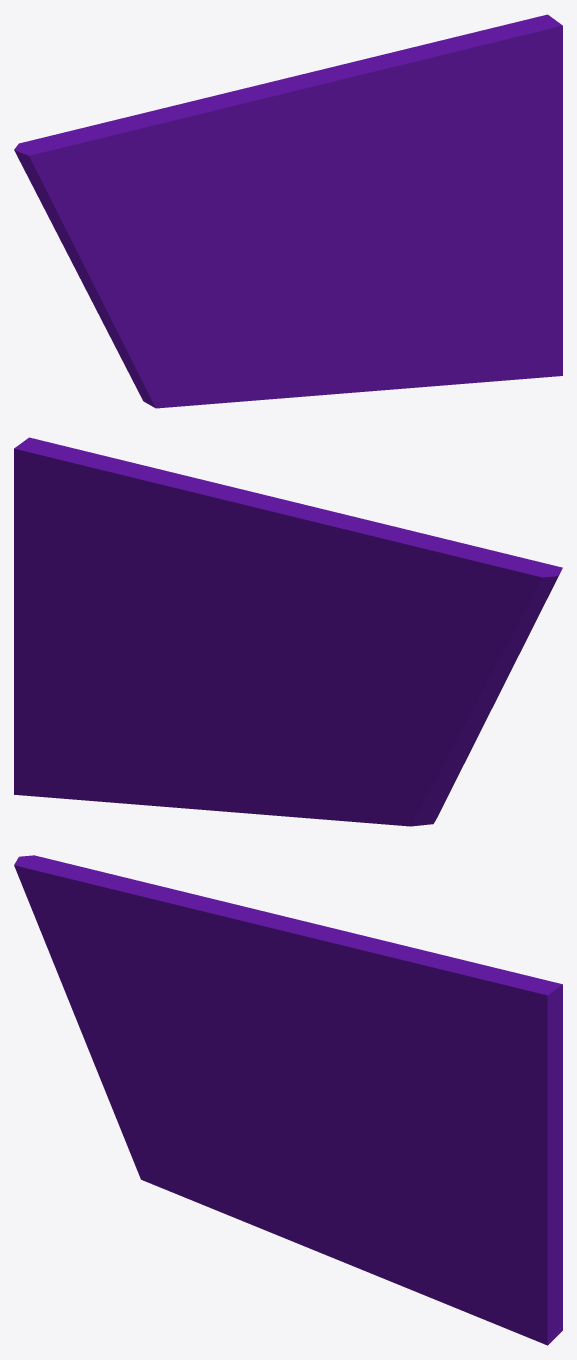
Rendered from ElevatorWall_3_2_chunks.fbx.
3 views of the same model, one above another, from view 1: azimuth 30°, elevation 25°; view 2: azimuth 150°, elevation 25°; view 3: azimuth 330°, elevation 25° (orthographic).
Visible parts, largest first — view 1: ElevatorWall_3_2_6, ElevatorWall_3_2_5, ElevatorWall_3_2_4, ElevatorWall_3_2_10, ElevatorWall_3_2_11, ElevatorWall_3_2_1, ElevatorWall_3_2_2, ElevatorWall_3_2_8, ElevatorWall_3_2_9, ElevatorWall_3_2_3, ElevatorWall_3_2_15, ElevatorWall_3_2_7; view 2: ElevatorWall_3_2_5, ElevatorWall_3_2_6, ElevatorWall_3_2_11, ElevatorWall_3_2_1, ElevatorWall_3_2_10, ElevatorWall_3_2_15, ElevatorWall_3_2_7, ElevatorWall_3_2_9, ElevatorWall_3_2_0, ElevatorWall_3_2_13, ElevatorWall_3_2_3, ElevatorWall_3_2_12 (+4 smaller); view 3: ElevatorWall_3_2_5, ElevatorWall_3_2_6, ElevatorWall_3_2_4, ElevatorWall_3_2_10, ElevatorWall_3_2_11, ElevatorWall_3_2_1, ElevatorWall_3_2_8, ElevatorWall_3_2_2, ElevatorWall_3_2_9, ElevatorWall_3_2_3, ElevatorWall_3_2_15, ElevatorWall_3_2_7.
Boxes of the visible parts, x1=… form: ElevatorWall_3_2_6: x1=344, y1=14, x2=562, y2=216; ElevatorWall_3_2_5: x1=371, y1=176, x2=562, y2=390; ElevatorWall_3_2_4: x1=275, y1=154, x2=434, y2=376; ElevatorWall_3_2_10: x1=144, y1=76, x2=338, y2=211; ElevatorWall_3_2_11: x1=14, y1=112, x2=169, y2=272; ElevatorWall_3_2_1: x1=226, y1=279, x2=381, y2=402; ElevatorWall_3_2_2: x1=99, y1=302, x2=232, y2=408; ElevatorWall_3_2_8: x1=77, y1=195, x2=199, y2=323; ElevatorWall_3_2_9: x1=188, y1=182, x2=307, y2=292; ElevatorWall_3_2_3: x1=166, y1=256, x2=293, y2=326; ElevatorWall_3_2_15: x1=295, y1=27, x2=493, y2=133; ElevatorWall_3_2_7: x1=320, y1=126, x2=364, y2=154; ElevatorWall_3_2_5: x1=14, y1=593, x2=208, y2=807; ElevatorWall_3_2_6: x1=14, y1=437, x2=192, y2=633; ElevatorWall_3_2_11: x1=385, y1=539, x2=562, y2=710; ElevatorWall_3_2_1: x1=177, y1=691, x2=354, y2=821; ElevatorWall_3_2_10: x1=253, y1=492, x2=446, y2=620; ElevatorWall_3_2_15: x1=68, y1=461, x2=270, y2=567; ElevatorWall_3_2_7: x1=138, y1=584, x2=269, y2=715; ElevatorWall_3_2_9: x1=289, y1=594, x2=422, y2=720; ElevatorWall_3_2_0: x1=339, y1=725, x2=451, y2=824; ElevatorWall_3_2_13: x1=141, y1=544, x2=292, y2=690; ElevatorWall_3_2_3: x1=269, y1=673, x2=432, y2=745; ElevatorWall_3_2_12: x1=224, y1=522, x2=295, y2=663; ElevatorWall_3_2_5: x1=356, y1=1124, x2=562, y2=1345; ElevatorWall_3_2_6: x1=329, y1=955, x2=562, y2=1145; ElevatorWall_3_2_4: x1=260, y1=1006, x2=419, y2=1253; ElevatorWall_3_2_10: x1=130, y1=887, x2=323, y2=1026; ElevatorWall_3_2_11: x1=14, y1=855, x2=162, y2=990; ElevatorWall_3_2_1: x1=211, y1=1118, x2=366, y2=1271; ElevatorWall_3_2_8: x1=65, y1=973, x2=184, y2=1079; ElevatorWall_3_2_2: x1=98, y1=1074, x2=217, y2=1208; ElevatorWall_3_2_9: x1=173, y1=1004, x2=292, y2=1084; ElevatorWall_3_2_3: x1=151, y1=1078, x2=278, y2=1135; ElevatorWall_3_2_15: x1=309, y1=922, x2=507, y2=993; ElevatorWall_3_2_7: x1=304, y1=989, x2=349, y2=1027.
Size of the model in its own units: 1171 by 727 by 57.27.
